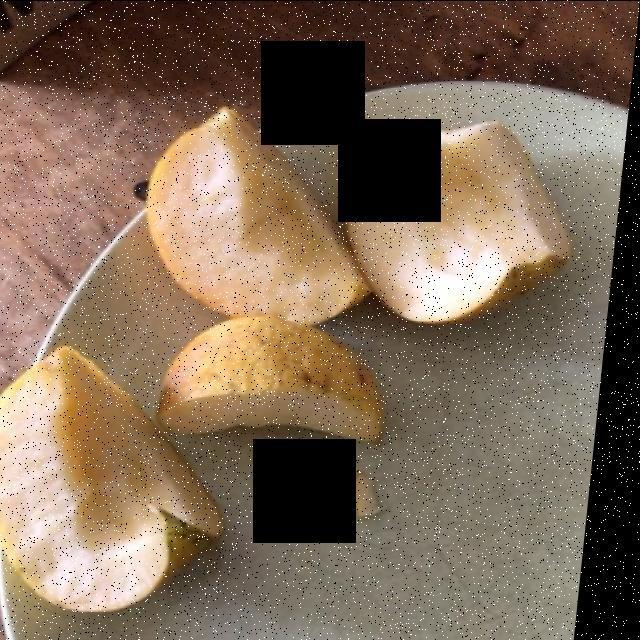apple: (9, 106, 582, 602)
